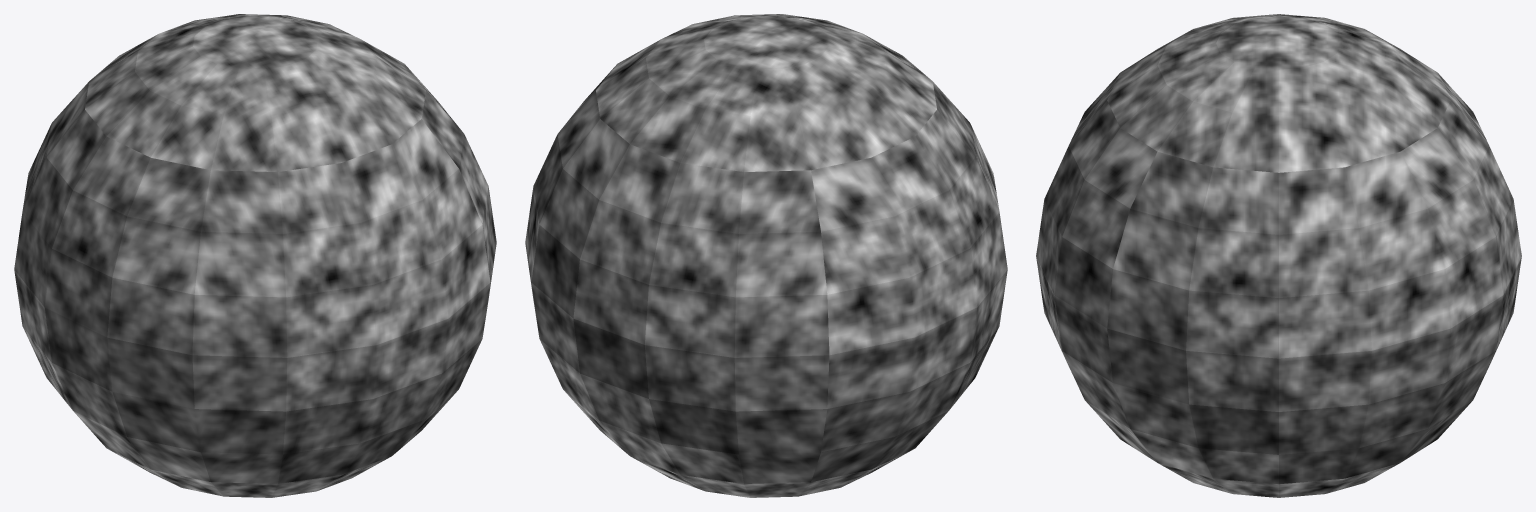
Rendered from orb_cloudy.obj.
3 renders of one model, left to right at view 1: azimuth 30°, elevation 25°; view 2: azimuth 150°, elevation 25°; view 3: azimuth 270°, elevation 25°, orthographic.
Parts seen in each view (by area): view 1: Sphere_Sphere.002; view 2: Sphere_Sphere.002; view 3: Sphere_Sphere.002.
Part boxes in pixels (x1,y1,x2,y2): Sphere_Sphere.002: (14,14,496,497); Sphere_Sphere.002: (525,14,1007,497); Sphere_Sphere.002: (1036,14,1521,497).
Size of the model in its own units: 1 by 1 by 1.
